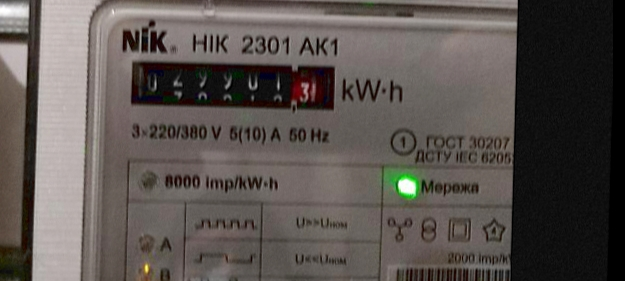0: (246, 67, 261, 92), (145, 70, 160, 92)
1: (273, 67, 285, 92)
2: (171, 65, 186, 88)
3: (297, 80, 313, 103)
9: (222, 68, 234, 91), (197, 66, 209, 87)
screen: (123, 52, 346, 120)
